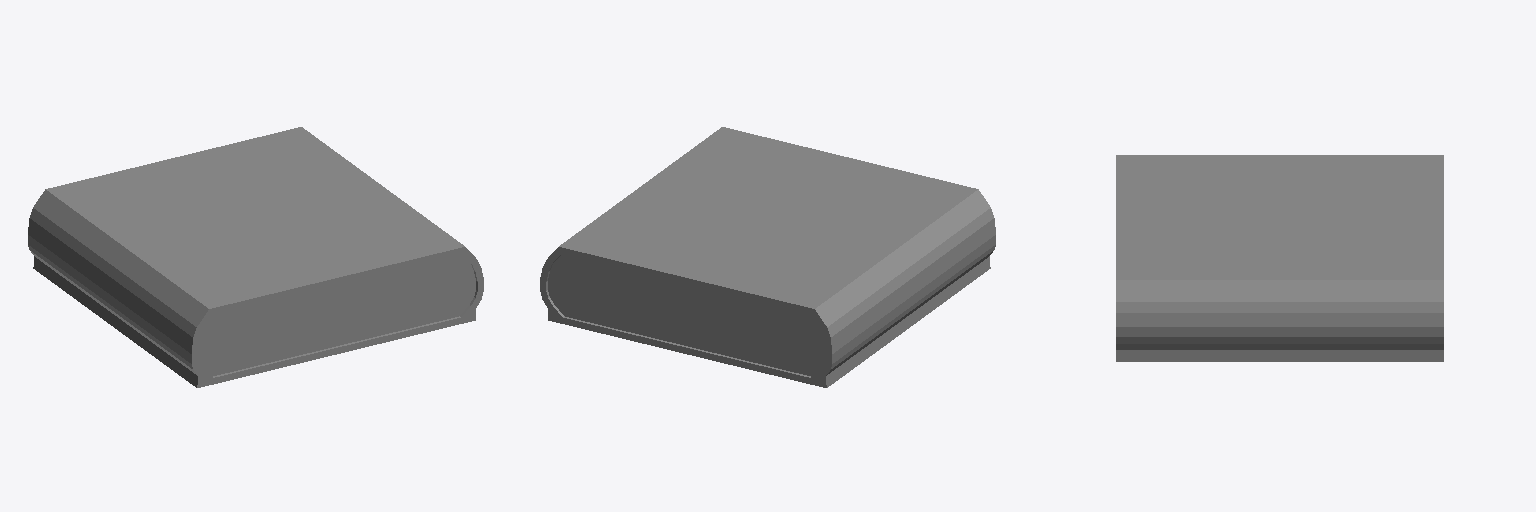
The model's file is rotating_conveyor_top.obj.
The picture shows the model from 3 angles: view 1: azimuth 30°, elevation 25°; view 2: azimuth 150°, elevation 25°; view 3: azimuth 270°, elevation 25°; orthographic projection.
Visible parts, largest first — view 1: Conveyor_Belt; view 2: Conveyor_Belt; view 3: Conveyor_Belt.
Part boxes in pixels (x1,y1,x2,y2): Conveyor_Belt: (28,127,483,387); Conveyor_Belt: (540,127,995,387); Conveyor_Belt: (1116,155,1443,361).
Size of the model in its own units: 30.94 by 7.71 by 30.